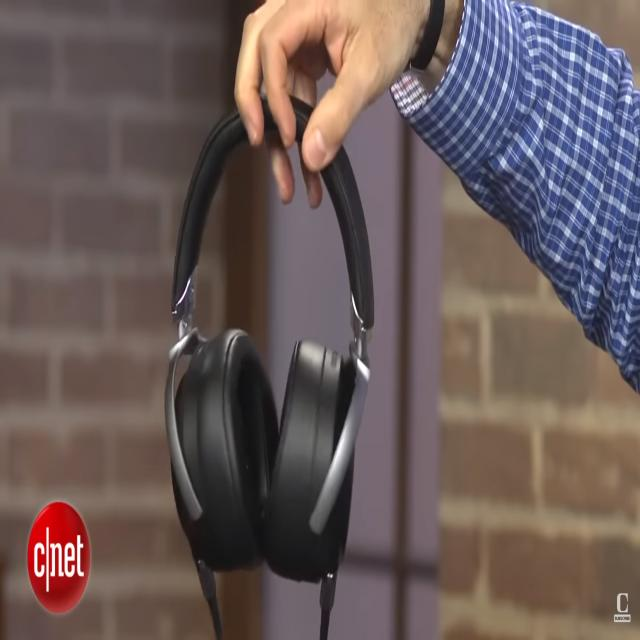Headphone: (162, 92, 374, 612)
